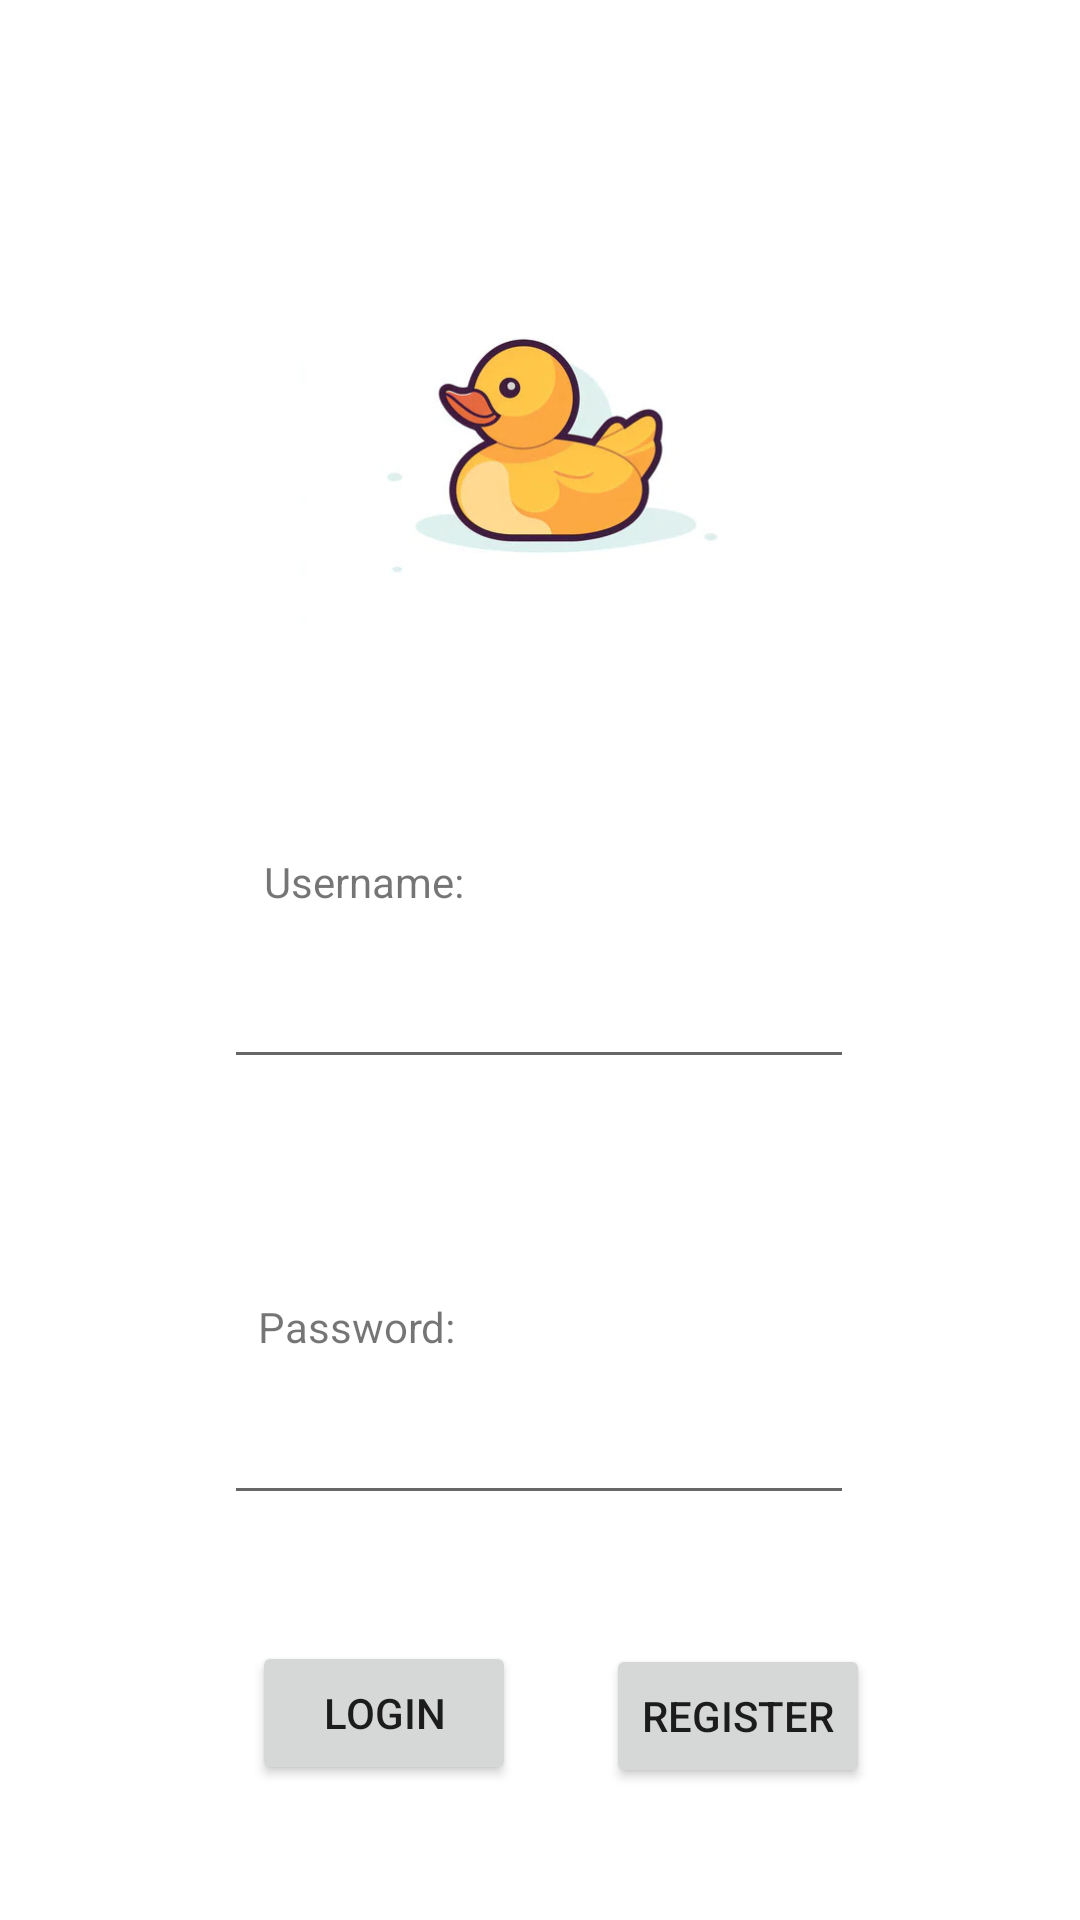

Named icons in this screenshot (1080w x 1920h) and their bounding boxes, [x1, y1, x2, y2]:
rubberduck: [388, 339, 717, 572]
